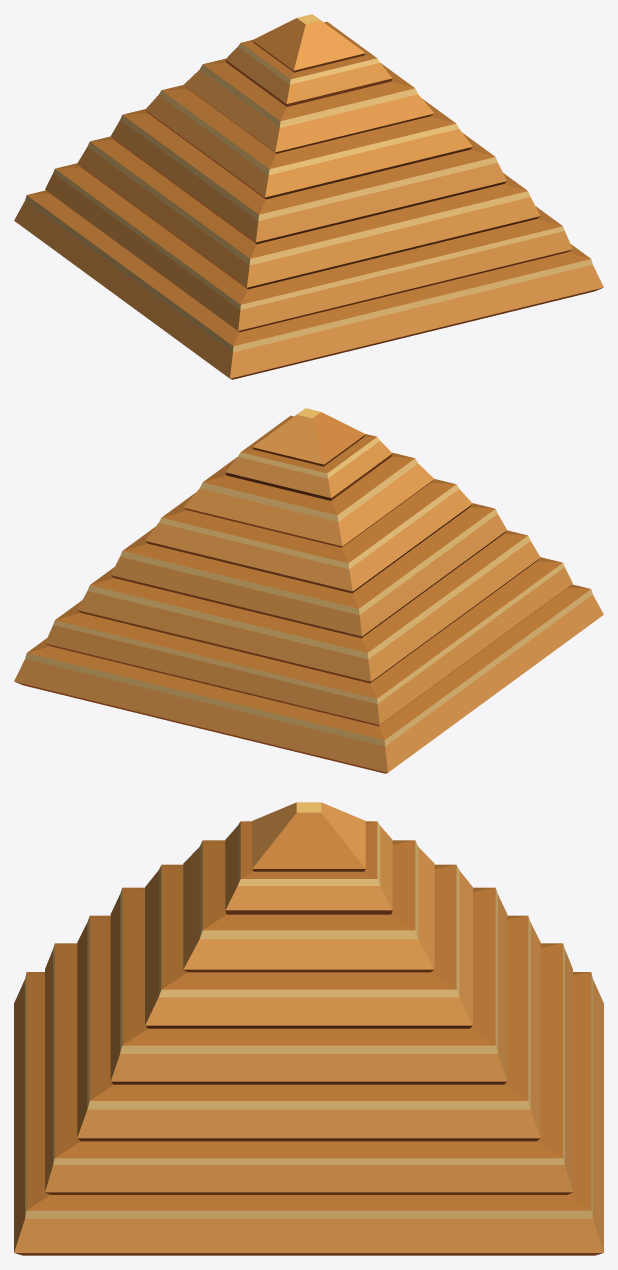
Rendered from egypt_env_pyramid_01.gltf.
3 views of the same model, one above another, from view 1: azimuth 30°, elevation 25°; view 2: azimuth 150°, elevation 25°; view 3: azimuth 270°, elevation 25° (orthographic). The views are drawn at different scales.
Visible parts, largest first — view 1: egypt_env_pyramid_01_glb; view 2: egypt_env_pyramid_01_glb; view 3: egypt_env_pyramid_01_glb.
Boxes of the visible parts, x1,y1,x2,y2 form: egypt_env_pyramid_01_glb: [14, 14, 603, 379]; egypt_env_pyramid_01_glb: [14, 408, 603, 773]; egypt_env_pyramid_01_glb: [14, 802, 603, 1255].
Size of what is drawn, in the model's own units: 11.28 by 6.9 by 11.28.
Materials: 1 (1 with a texture image).
